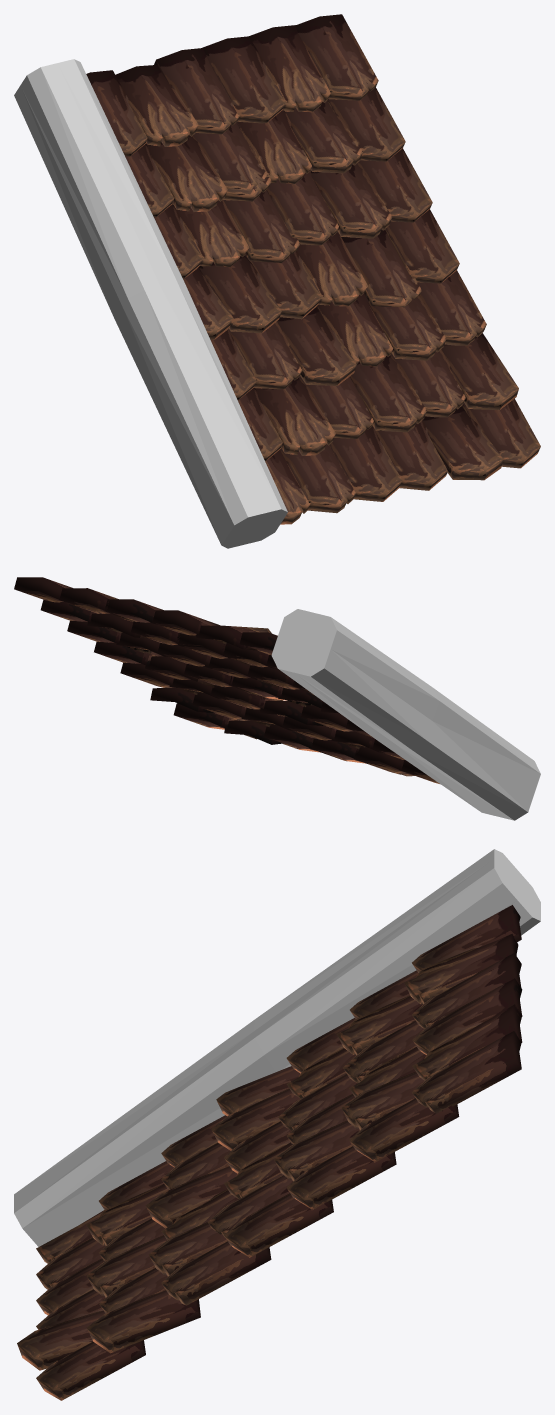
File: VV-RoofTile3.fbx
3 views of the same model, one above another, from view 1: azimuth 30°, elevation 25°; view 2: azimuth 150°, elevation 25°; view 3: azimuth 270°, elevation 25° (orthographic). The views are drawn at different scales.
Visible parts, largest first — view 1: RoofTile.3; view 2: RoofTile.3; view 3: RoofTile.3.
Boxes of the visible parts, bbox=[...] form: RoofTile.3: bbox=[14, 14, 540, 548]; RoofTile.3: bbox=[14, 577, 540, 820]; RoofTile.3: bbox=[14, 849, 540, 1400].
Bounding box in the file's own units: 2.11 × 2.15 × 2.58.
